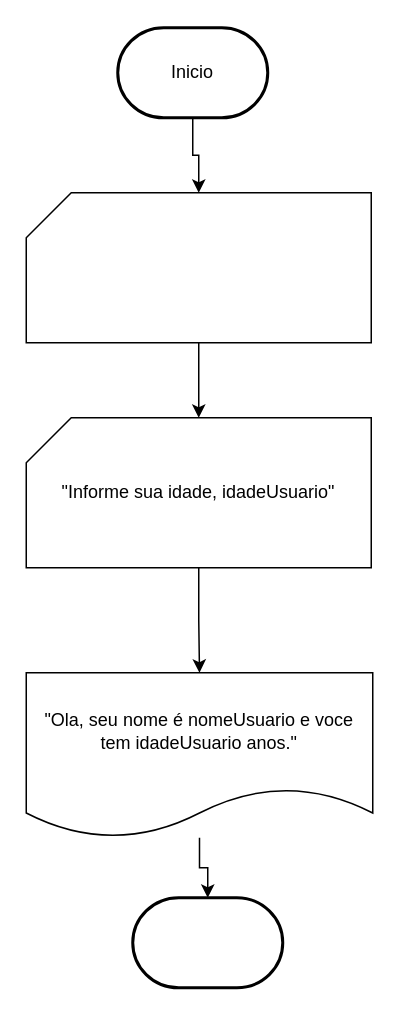
The diagram is 399 pixels wide and 1014 high, and some of its shapes have lost their labels. Each missing label, with the box of its shape:
"Informe seu nome, nomeUsuario": (25, 191, 371, 343)
Fim: (130, 896, 284, 988)
